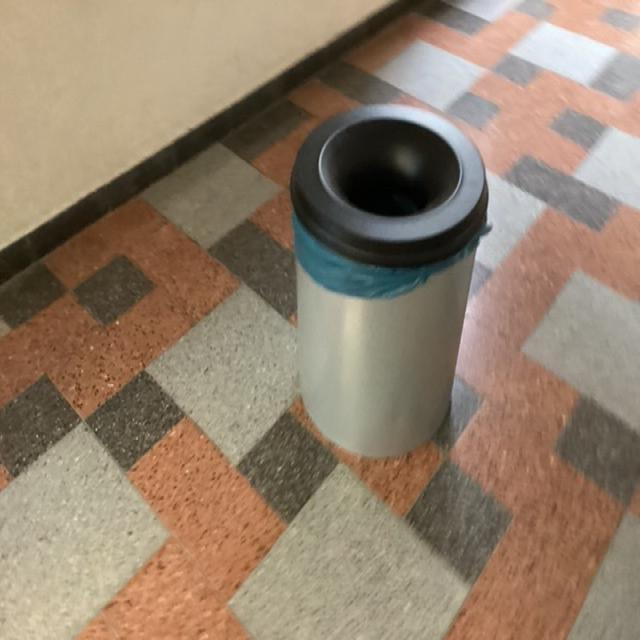garbage container: (270, 86, 505, 492)
